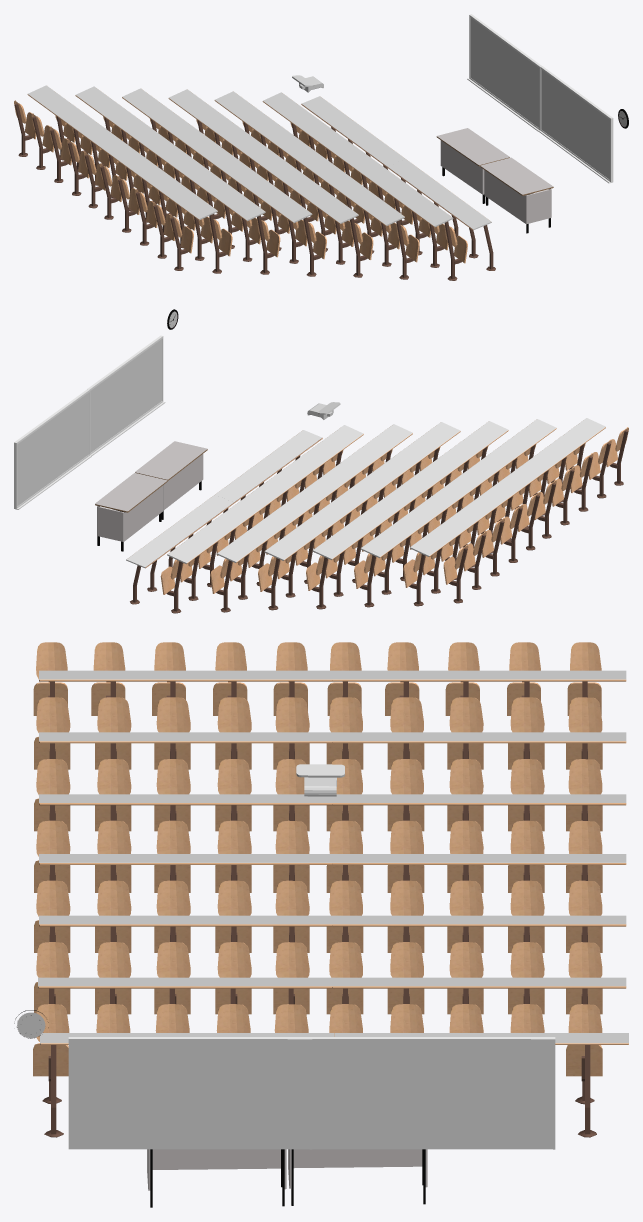
File: fur_petit_amphi_sized.glb
The picture shows the model from 3 angles, top to bottom: view 1: azimuth 30°, elevation 25°; view 2: azimuth 150°, elevation 25°; view 3: azimuth 270°, elevation 25°; orthographic projection. The views are drawn at different scales.
Visible parts, largest first — view 1: Tableau21, Tableau20, Table_amphi26, Table_amphi28, Table_amphi24, Table_amphi20, Table_amphi18, Table_amphi22, Table_amphi25, Table_amphi27, Table_amphi23, Table_amphi19 (+18 smaller); view 2: Tableau20, Tableau21, Table_amphi25, Table_amphi27, Table_amphi23, Table_amphi19, Table_amphi21, Table_amphi17, Table_amphi26, Table_amphi28, Table_amphi24, Table_amphi20 (+18 smaller); view 3: Tableau21, Tableau20, Table_amphi17, Table_amphi18, Table_amphi25, Table_amphi26, Table_amphi24, Table_amphi23, Table_amphi19, Table_amphi20, Table_amphi21, Table_amphi22 (+16 smaller).
Boxes of the visible parts, x1=… form: Tableau21: x1=538, y1=66, x2=613, y2=183; Tableau20: x1=467, y1=14, x2=541, y2=131; Table_amphi26: x1=113, y1=148, x2=232, y2=273; Table_amphi28: x1=348, y1=155, x2=467, y2=280; Table_amphi24: x1=161, y1=149, x2=280, y2=274; Table_amphi20: x1=254, y1=152, x2=373, y2=277; Table_amphi18: x1=300, y1=154, x2=419, y2=279; Table_amphi22: x1=207, y1=151, x2=326, y2=276; Table_amphi25: x1=27, y1=85, x2=144, y2=210; Table_amphi27: x1=262, y1=92, x2=379, y2=197; Table_amphi23: x1=75, y1=86, x2=191, y2=191; Table_amphi19: x1=168, y1=89, x2=284, y2=193; Tableau20: x1=14, y1=389, x2=91, y2=509; Tableau21: x1=87, y1=335, x2=165, y2=455; Table_amphi25: x1=403, y1=482, x2=517, y2=606; Table_amphi27: x1=160, y1=490, x2=275, y2=613; Table_amphi23: x1=354, y1=483, x2=468, y2=607; Table_amphi19: x1=258, y1=486, x2=372, y2=610; Table_amphi21: x1=306, y1=486, x2=420, y2=609; Table_amphi17: x1=210, y1=488, x2=324, y2=612; Table_amphi26: x1=494, y1=418, x2=605, y2=540; Table_amphi28: x1=252, y1=425, x2=363, y2=527; Table_amphi24: x1=445, y1=419, x2=556, y2=520; Table_amphi20: x1=349, y1=422, x2=460, y2=522; Tableau21: x1=68, y1=1037, x2=312, y2=1149; Tableau20: x1=312, y1=1037, x2=555, y2=1149; Table_amphi17: x1=326, y1=915, x2=626, y2=1014; Table_amphi18: x1=34, y1=915, x2=333, y2=1014; Table_amphi25: x1=326, y1=670, x2=626, y2=769; Table_amphi26: x1=34, y1=670, x2=333, y2=769; Table_amphi24: x1=34, y1=732, x2=333, y2=831; Table_amphi23: x1=326, y1=732, x2=626, y2=831; Table_amphi19: x1=326, y1=854, x2=626, y2=952; Table_amphi20: x1=34, y1=854, x2=333, y2=952; Table_amphi21: x1=326, y1=794, x2=626, y2=892; Table_amphi22: x1=34, y1=794, x2=333, y2=892.
Size of the model in its own units: 9.09 by 3.1 by 6.31.
Materials: 15 (3 with a texture image).
